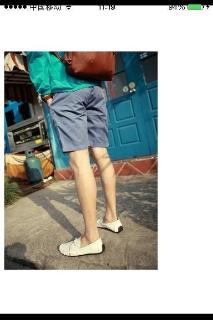long sleeve top: (27, 51, 102, 97)
shorts: (47, 81, 109, 153)
